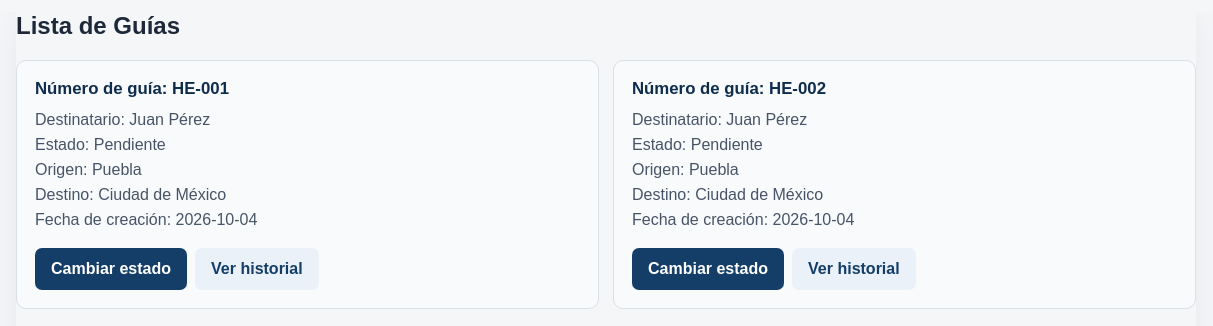
Scenario: GuideList › "Cambiar estado" avanza solo la guía seleccionada
The width and height of the screenshot is (1213, 326).
Click the button with aria-label "Cambiar estado de la guía HE-002": {"x": 708, "y": 269} [632,248,784,290]
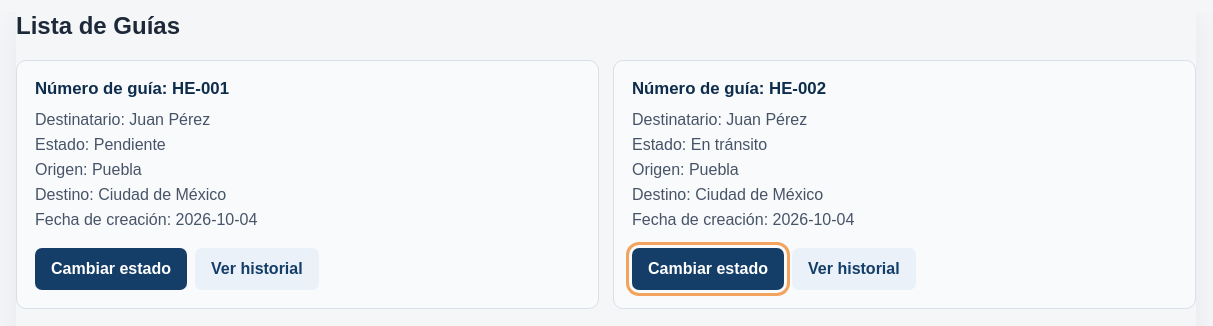
Result: the text "Estado: En tránsito" is shown at [632,136,767,153]
